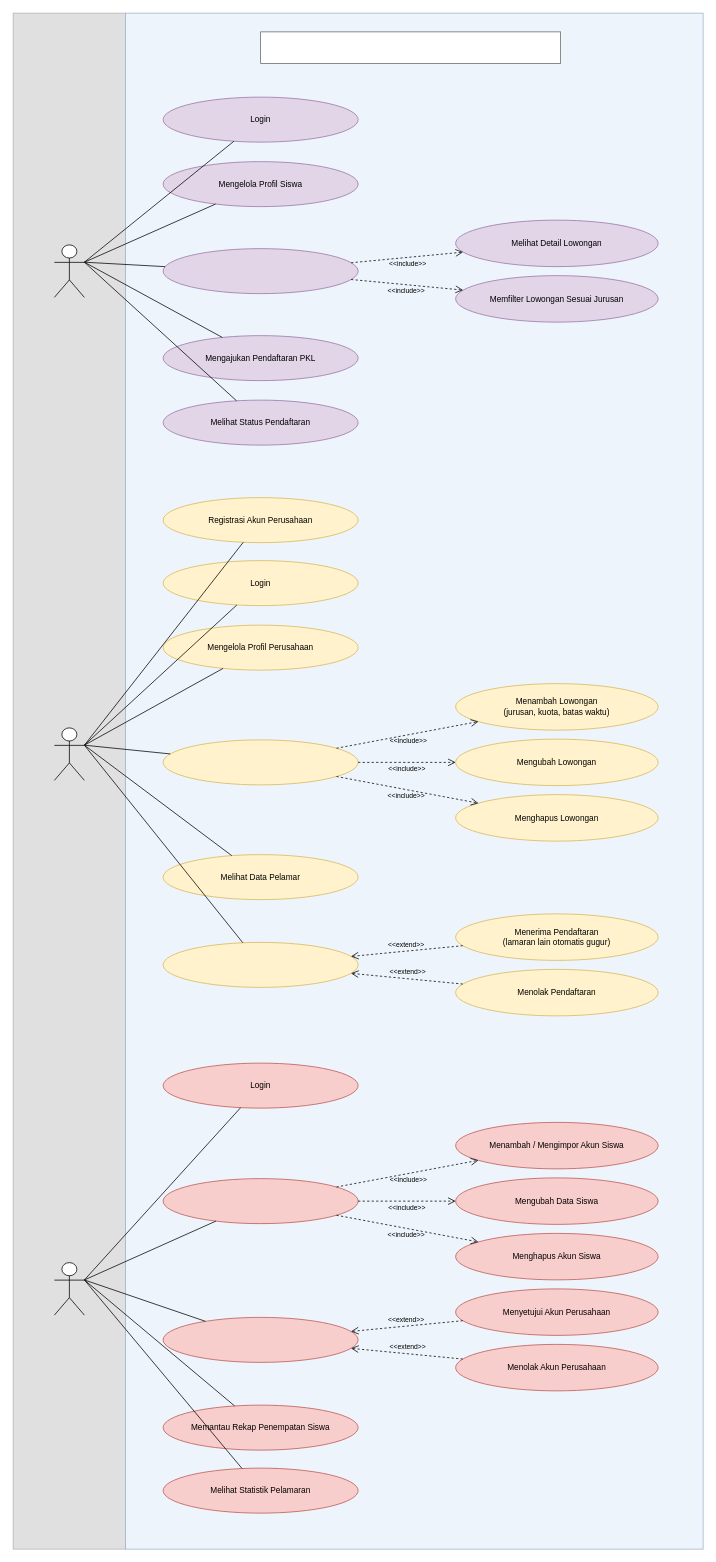
This 716x1562 diagram has some shape labels left out. Here are the shapes that lost their labels. From the top down, the box of each, then its label:
(260, 31, 561, 63): USE CASE DIAGRAM PKLOKA
(54, 244, 84, 297): Siswa
(162, 248, 358, 294): Melihat Lowongan PKL
(54, 727, 84, 780): Perusahaan
(162, 739, 358, 785): Mengelola Lowongan PKL
(162, 942, 358, 987): Memproses Pendaftaran
(162, 1178, 358, 1224): Mengelola Data Akun Siswa
(54, 1262, 84, 1315): Admin (Pihak Sekolah)
(162, 1317, 358, 1362): Memverifikasi Akun Perusahaan
